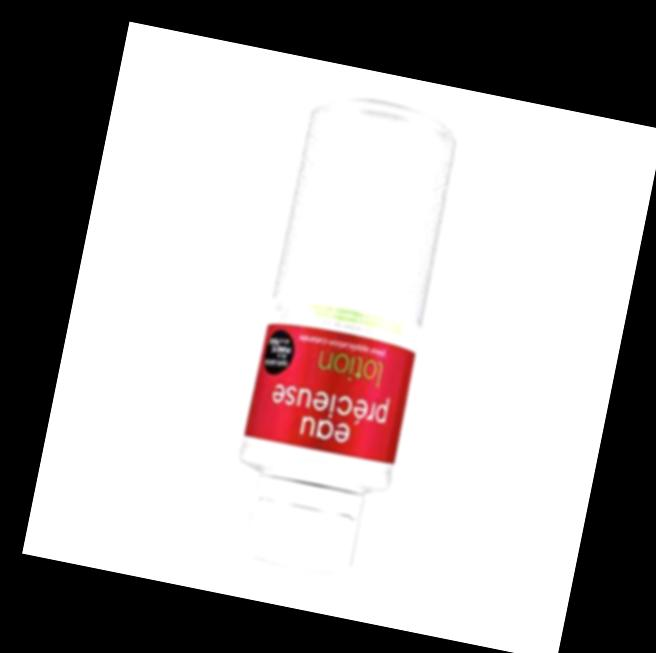cosmetic: (220, 107, 461, 583)
